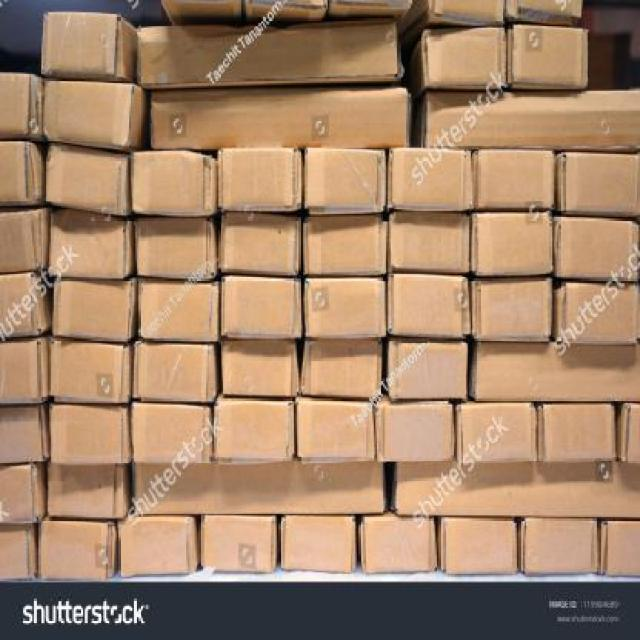BoxFace: (139, 15, 399, 90), (149, 88, 408, 147), (394, 460, 640, 518), (134, 460, 386, 514), (423, 92, 640, 150), (475, 340, 640, 400), (44, 143, 130, 217), (388, 148, 474, 214), (218, 148, 302, 214), (132, 151, 215, 217), (41, 10, 121, 78), (389, 208, 471, 274), (554, 218, 638, 282), (53, 276, 132, 344), (133, 340, 218, 403), (46, 82, 132, 144), (424, 26, 506, 91), (556, 152, 638, 217), (300, 336, 382, 401), (49, 212, 126, 280), (509, 24, 588, 90), (304, 147, 386, 210), (389, 274, 471, 337), (214, 400, 296, 463), (220, 276, 302, 338), (130, 403, 212, 465), (558, 281, 638, 344), (50, 403, 130, 466), (138, 280, 219, 342), (298, 394, 374, 460), (474, 279, 551, 344), (304, 214, 387, 274), (304, 278, 387, 338), (136, 216, 215, 279), (219, 213, 299, 275), (474, 212, 554, 274), (387, 342, 467, 404), (474, 148, 554, 209), (50, 340, 127, 403), (280, 514, 357, 576), (220, 338, 296, 400), (461, 402, 537, 464), (542, 402, 616, 464), (40, 518, 114, 580), (199, 515, 276, 574), (47, 465, 125, 521), (442, 515, 516, 574), (523, 516, 599, 573), (379, 403, 453, 460), (118, 518, 196, 572), (361, 517, 437, 571), (0, 340, 45, 403), (0, 142, 43, 206), (0, 74, 42, 138), (0, 404, 48, 460), (0, 212, 45, 270), (0, 275, 42, 333), (598, 518, 640, 576), (0, 466, 43, 522), (0, 524, 35, 577)
